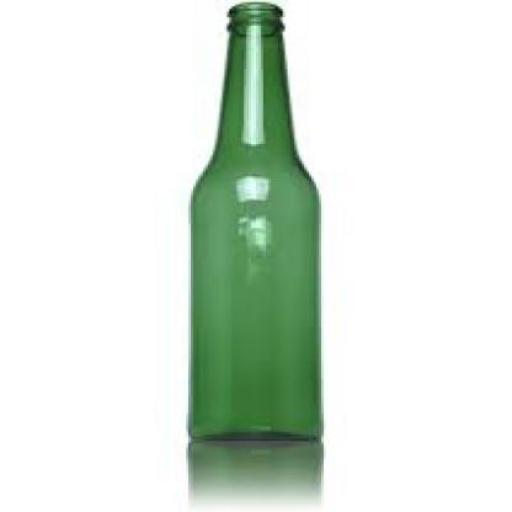glass: (188, 0, 320, 442)
